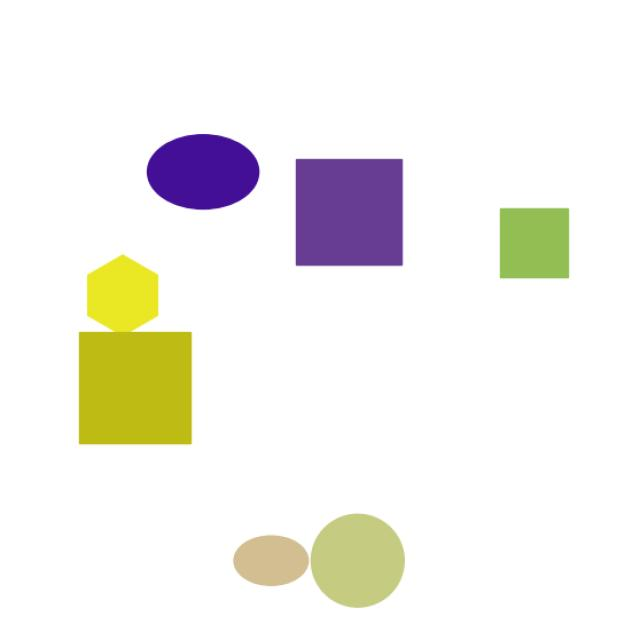Circle: (298, 505, 419, 610)
Hexagon: (80, 250, 172, 345)
Oval: (126, 126, 278, 216), (211, 530, 321, 590)
square: (61, 322, 200, 462), (284, 152, 420, 285), (489, 199, 583, 286)
